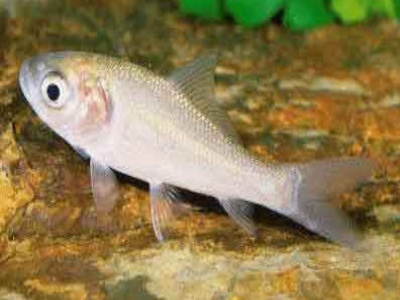rohu: (14, 39, 368, 257)
